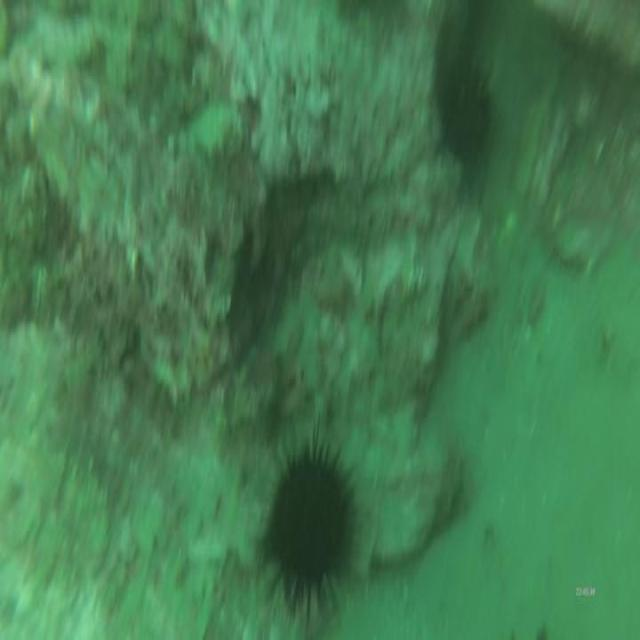echinus: (253, 425, 364, 621), (433, 44, 497, 176)
